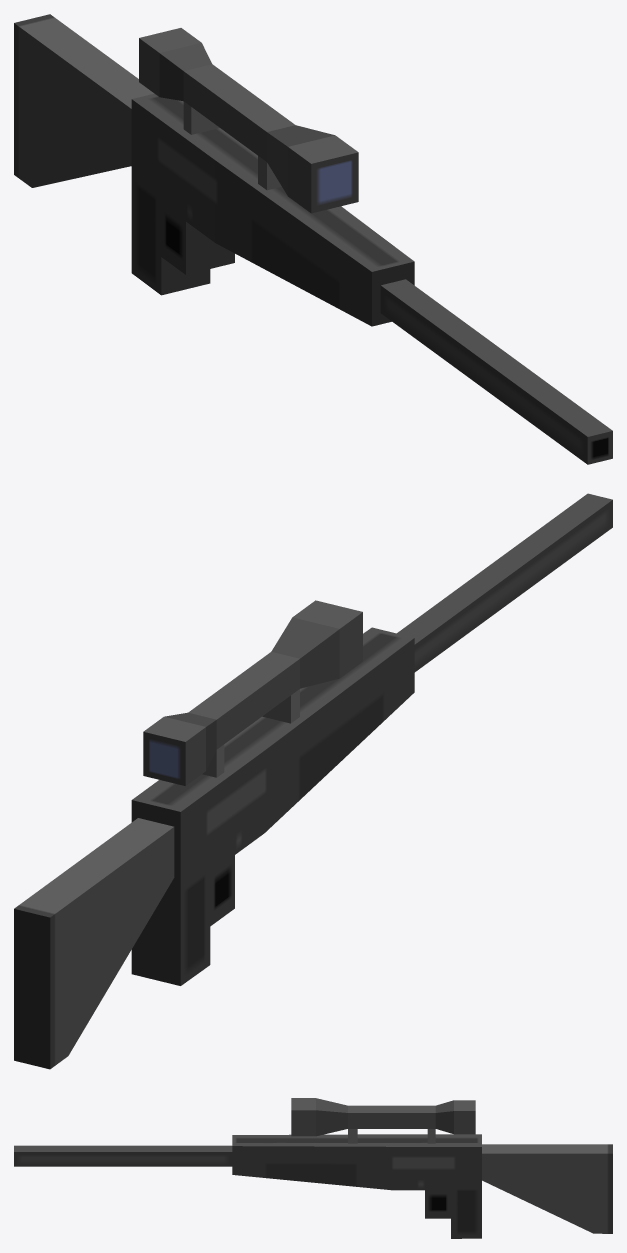
Rendered from SK_Wep_SniperRifle_01.fbx.
3 views of the same model, one above another, from view 1: azimuth 30°, elevation 25°; view 2: azimuth 150°, elevation 25°; view 3: azimuth 270°, elevation 25° (orthographic). The views are drawn at different scales.
Parts seen in each view (by area): view 1: SK_Wep_SniperRifle_01; view 2: SK_Wep_SniperRifle_01; view 3: SK_Wep_SniperRifle_01.
Part boxes in pixels (left/top/right/bottom): SK_Wep_SniperRifle_01: left=14, top=14, right=612, bottom=464; SK_Wep_SniperRifle_01: left=14, top=493, right=612, bottom=1069; SK_Wep_SniperRifle_01: left=14, top=1098, right=612, bottom=1238.
Bounding box in the file's own units: 12.93 × 59.47 × 252.
